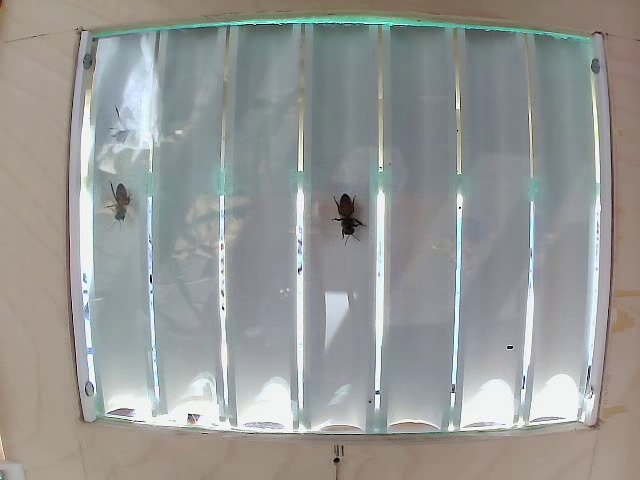bee: (324, 187, 368, 246), (105, 175, 147, 227)
